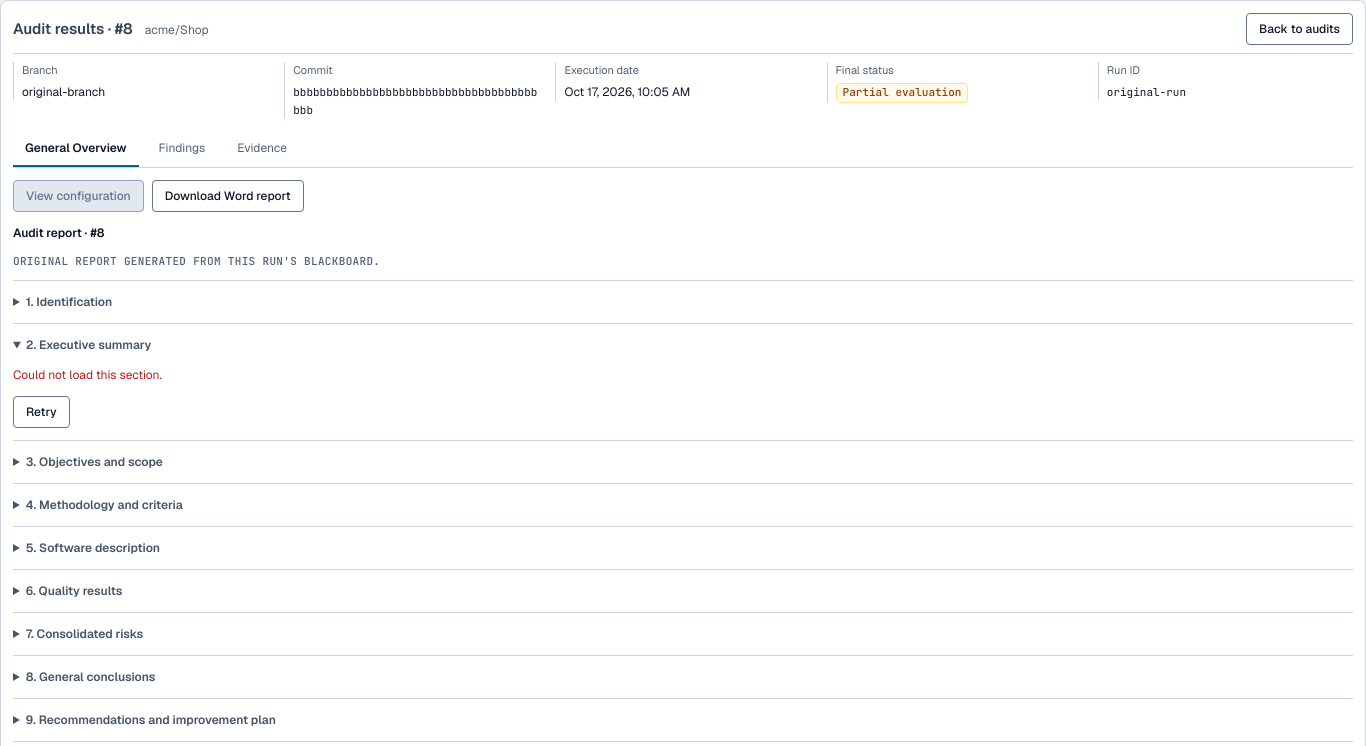
Test: dedicated audit results › retries a failed section without reloading metadata or the complete report
Expected: the message shows "Could not load this section.", [13,367,162,383]
Step 1. Click the button "Retry" → (41, 412), box [13,396,70,428]
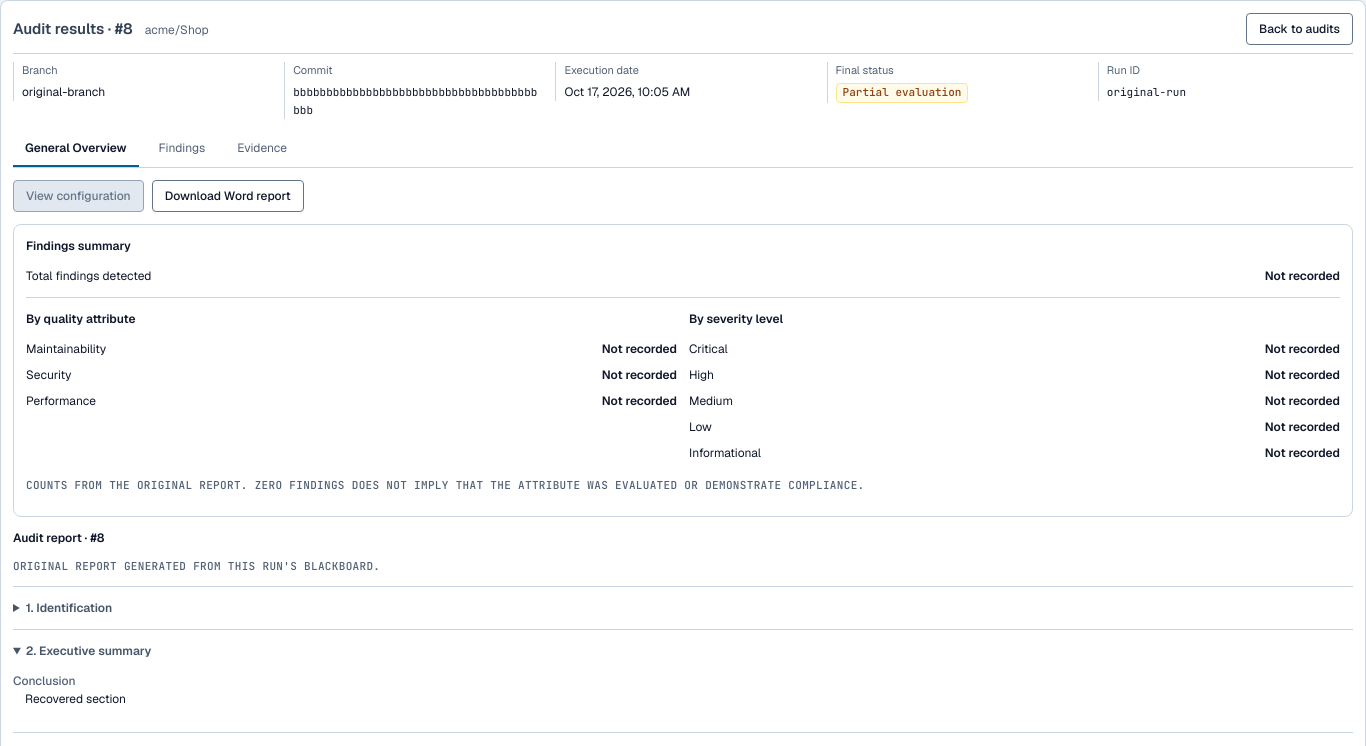
Expected: the text "Recovered section" is shown, [25,690,126,706]
